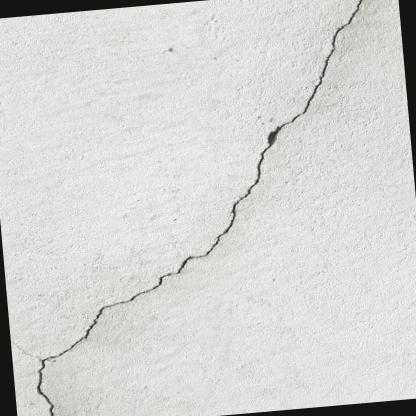crack: (36, 0, 362, 416)
